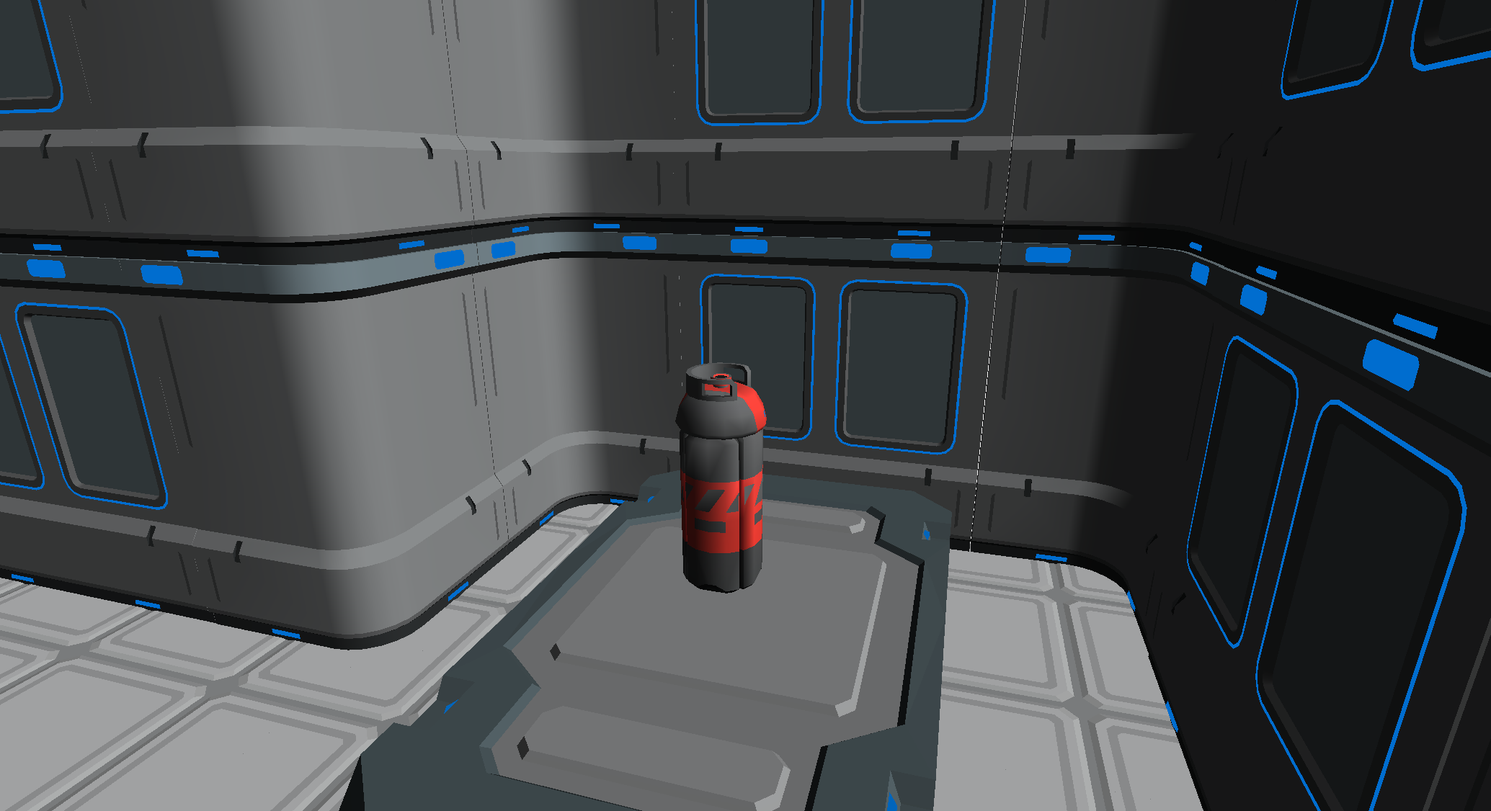red_barrel: (676, 364, 765, 591)
